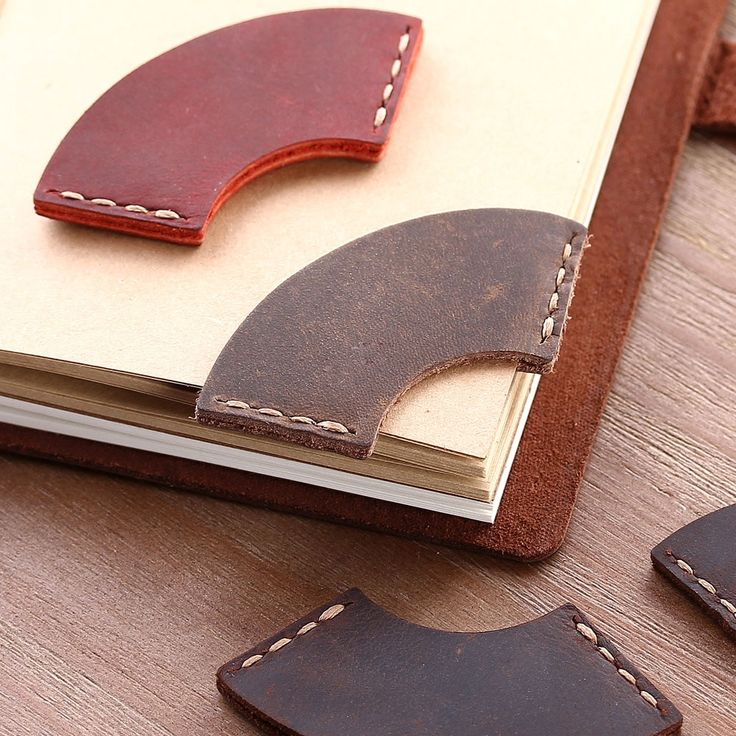cuero: (35, 8, 736, 736)
